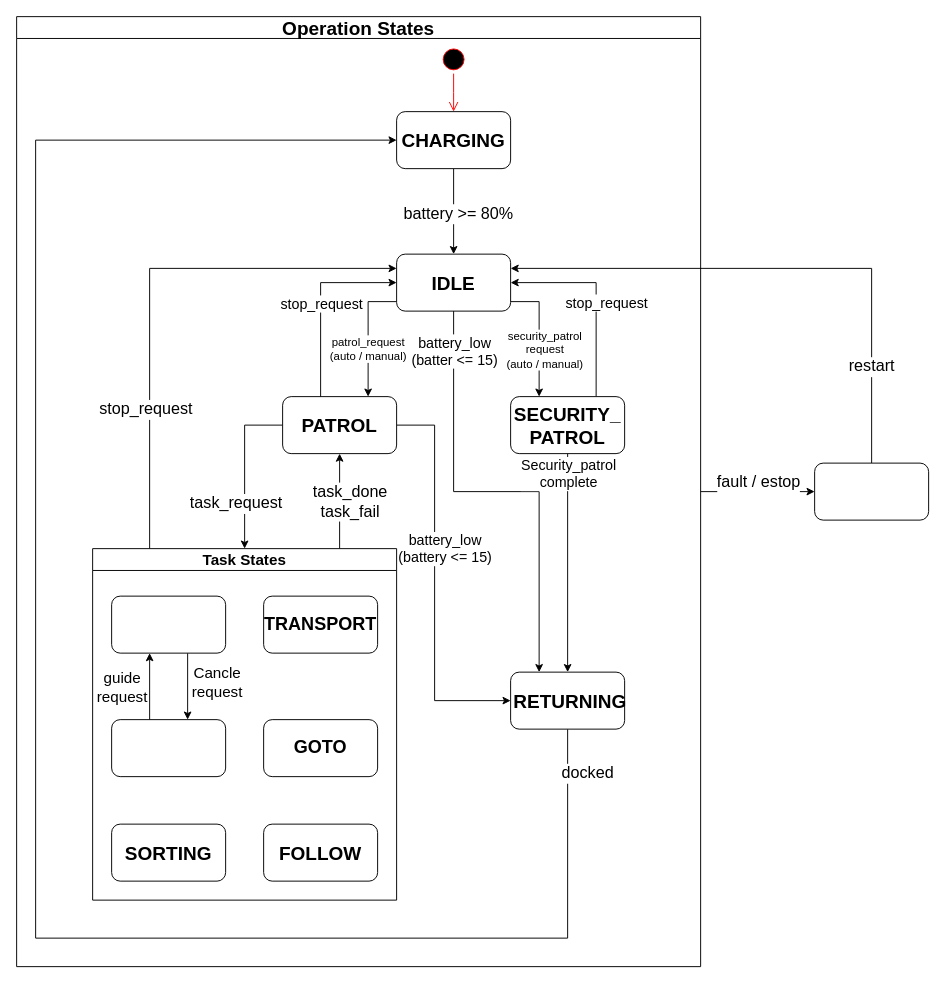
The diagram is 945 pixels wide and 983 high, and some of its shapes have lost their labels. Each missing label, with the box of its shape:
ERROR: (814, 462, 929, 520)
GUIDE: (111, 595, 226, 653)
INTERACTING: (111, 719, 226, 777)
